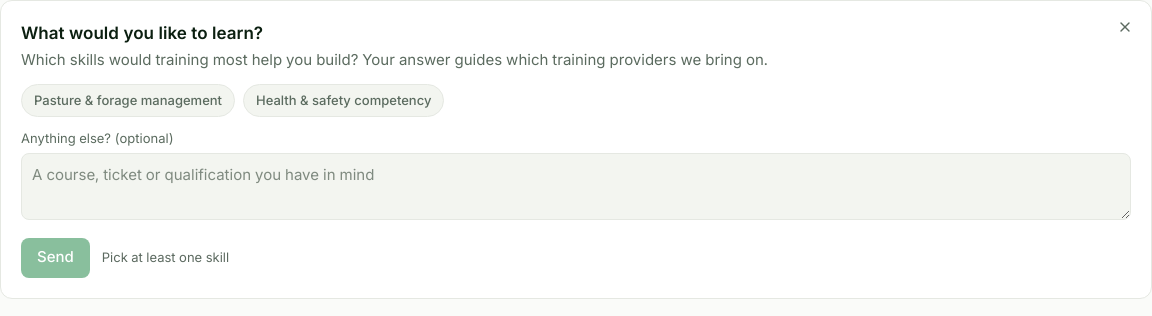
Test: TrainingDemandCard › renders the taxonomy as pressable chips and submits the chosen skill ids
The width and height of the screenshot is (1152, 316).
Expected: the button "Send" is disabled, [21, 238, 90, 278]
Click the button "Pasture & forage management".
click(128, 100)  # box [21, 84, 235, 117]
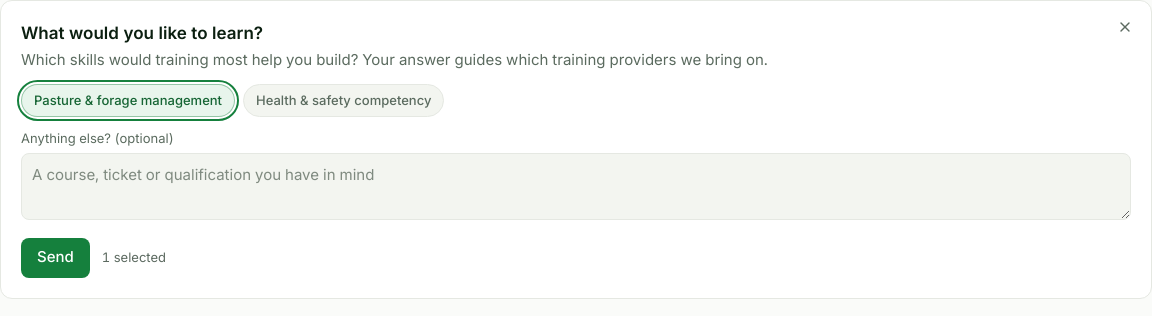
Expected: the button "Pasture & forage management" is pressed, [21, 84, 235, 117]
Click the button "Send".
click(55, 258)  # box [21, 238, 90, 278]
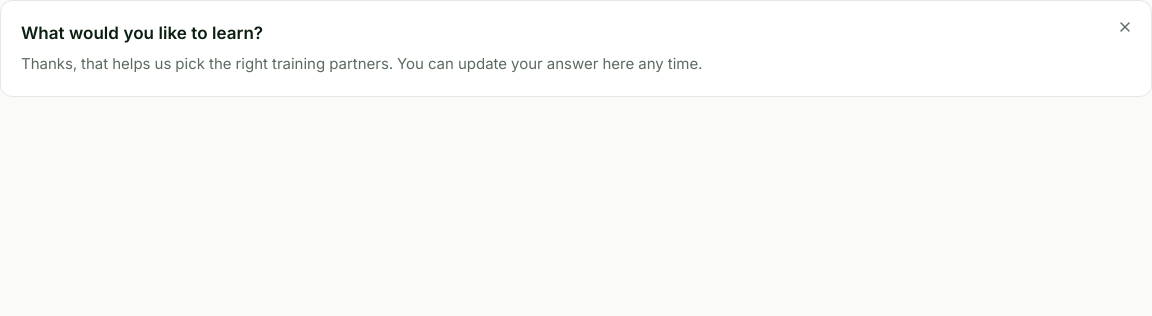
Expected: the message is shown, [21, 54, 702, 73]
